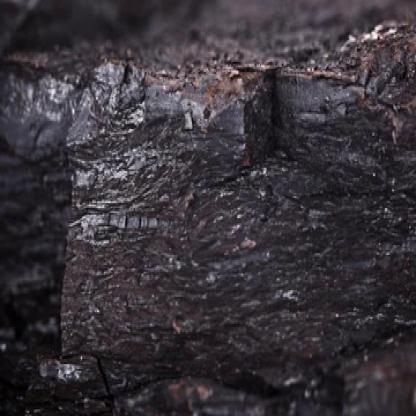Sedimentary_coal: (57, 109, 354, 393), (7, 42, 259, 169)
